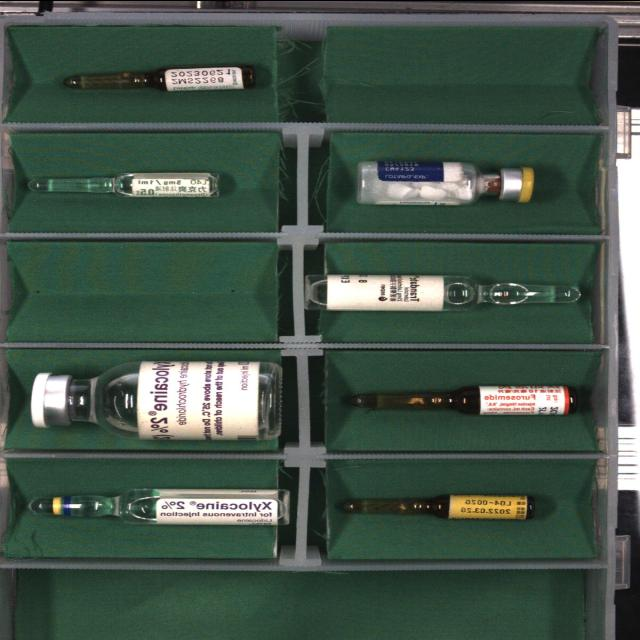Vials: (31, 360, 282, 439), (357, 160, 533, 204)
